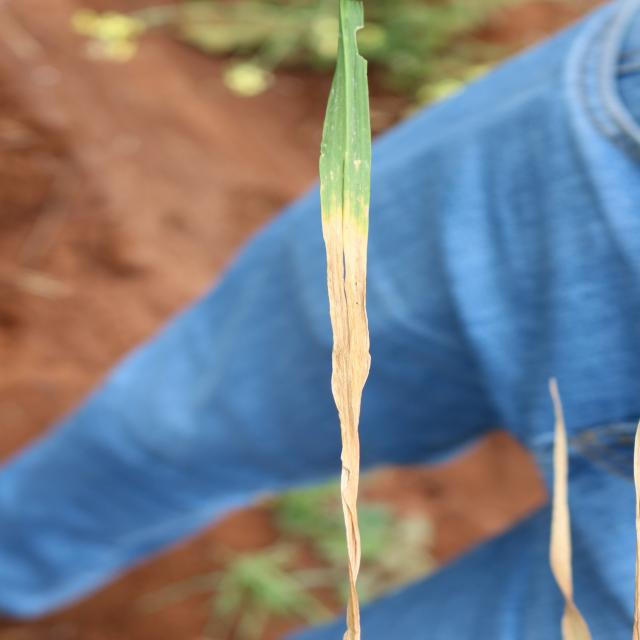Septoria: (317, 1, 373, 638)
